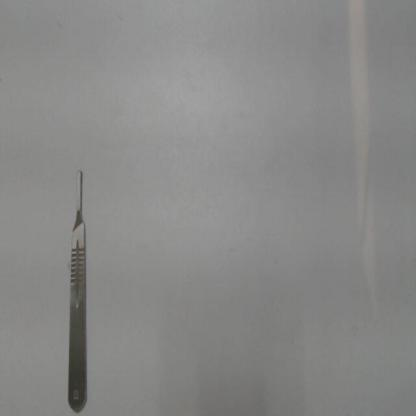No.4 BP Handle: (63, 162, 90, 415)
